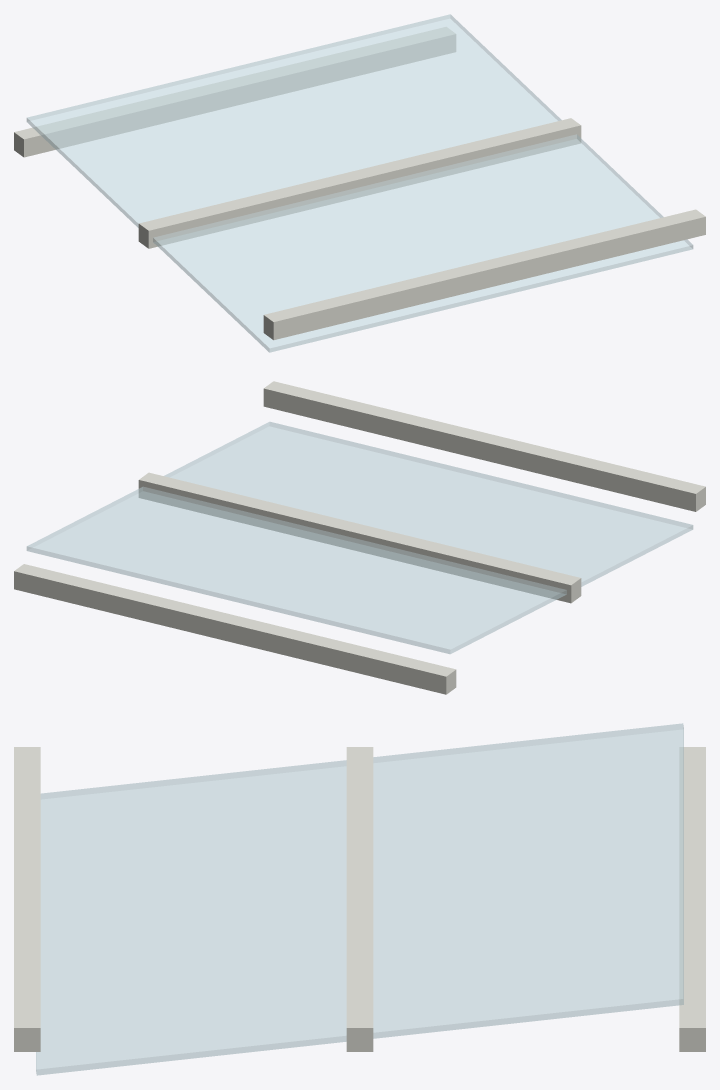
The model's file is Greenhouse_Roof.fbx.
3 renders of one model, top to bottom at view 1: azimuth 30°, elevation 25°; view 2: azimuth 150°, elevation 25°; view 3: azimuth 270°, elevation 25°, orthographic. The views are drawn at different scales.
Visible parts, largest first — view 1: Greenhouse_Roof_Body; view 2: Greenhouse_Roof_Body; view 3: Greenhouse_Roof_Body.
Part boxes in pixels (x1,y1,x2,y2): Greenhouse_Roof_Body: (14, 14, 705, 352); Greenhouse_Roof_Body: (14, 381, 705, 694); Greenhouse_Roof_Body: (14, 723, 705, 1075).
Bounding box in the file's own units: 1 × 0.1272 × 1.04.
